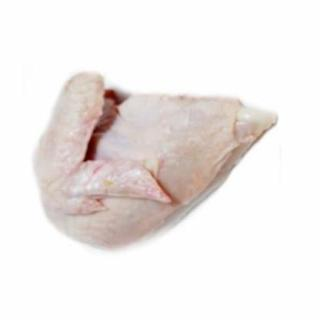Ayam: (37, 74, 276, 249)
